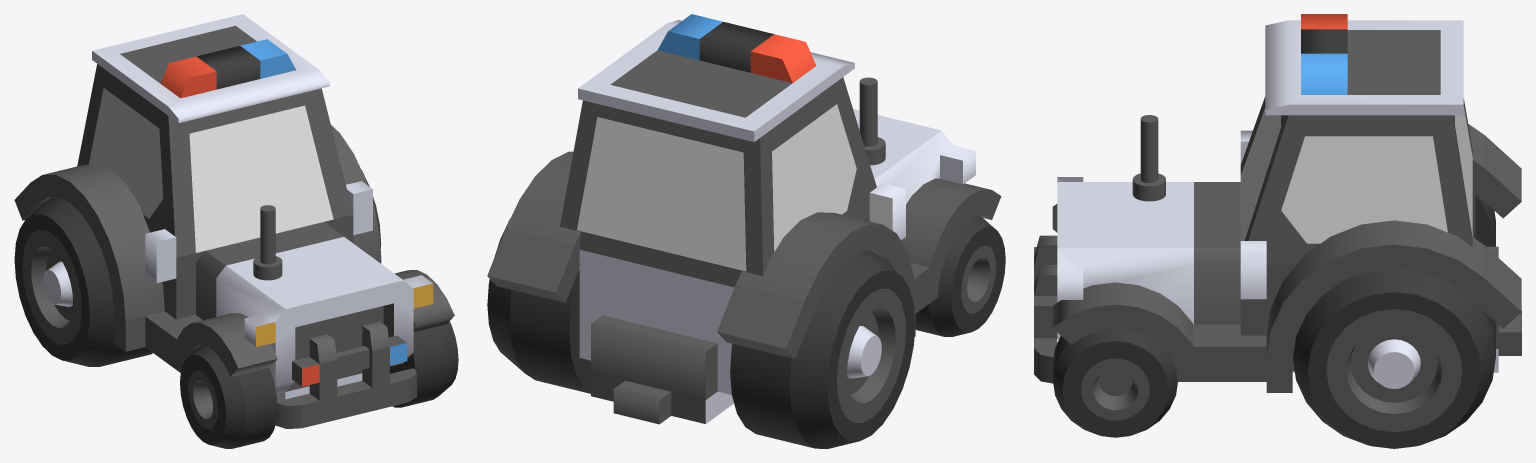
The model's file is tractorPolice.dae.
3 renders of one model, left to right at view 1: azimuth 30°, elevation 25°; view 2: azimuth 150°, elevation 25°; view 3: azimuth 270°, elevation 25°, orthographic. The views are drawn at different scales.
Visible parts, largest first — view 1: body, skirts, wheel_backLeft, grill, wheel_frontLeft, wheel_frontRight; view 2: body, skirts, wheel_backLeft, wheel_backRight, wheel_frontLeft; view 3: body, skirts, wheel_backRight, wheel_frontRight, grill, wheel_backLeft.
Boxes of the visible parts, x1,y1,x2,y2 form: body: [77, 14, 433, 401]; skirts: [14, 125, 454, 376]; wheel_backLeft: [14, 197, 152, 366]; grill: [274, 321, 416, 428]; wheel_frontLeft: [180, 345, 277, 448]; wheel_frontRight: [390, 321, 458, 407]; body: [560, 14, 975, 424]; skirts: [487, 151, 1001, 358]; wheel_backLeft: [730, 250, 915, 448]; wheel_backRight: [487, 218, 590, 393]; wheel_frontLeft: [915, 215, 1005, 336]; body: [1057, 14, 1521, 372]; skirts: [1052, 124, 1521, 392]; wheel_backRight: [1293, 268, 1495, 448]; wheel_frontRight: [1053, 328, 1177, 437]; grill: [1034, 235, 1057, 383]; wheel_backLeft: [1475, 194, 1495, 246].
Bounding box in the file's own units: 1.66 × 1.61 × 2.1.
